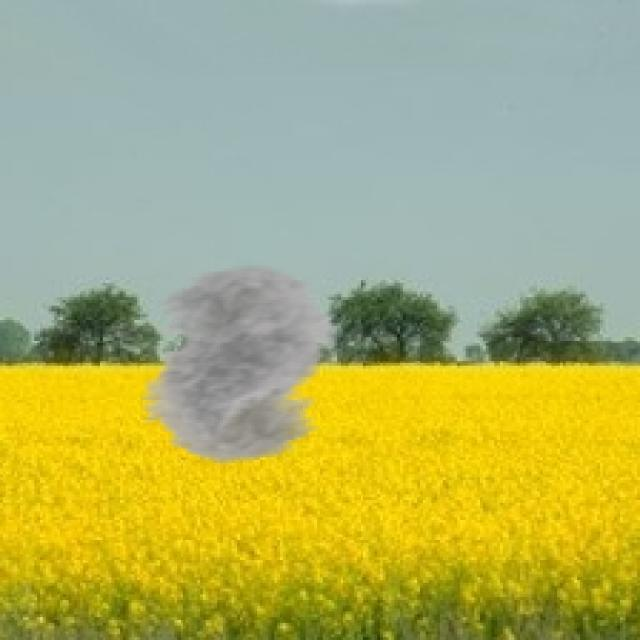Smoke: (114, 263, 360, 466)
